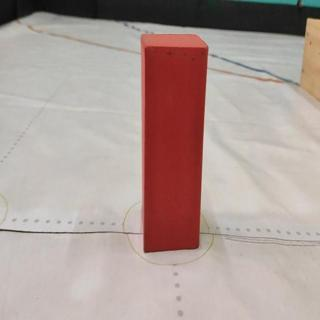redbox: (139, 32, 209, 251)
